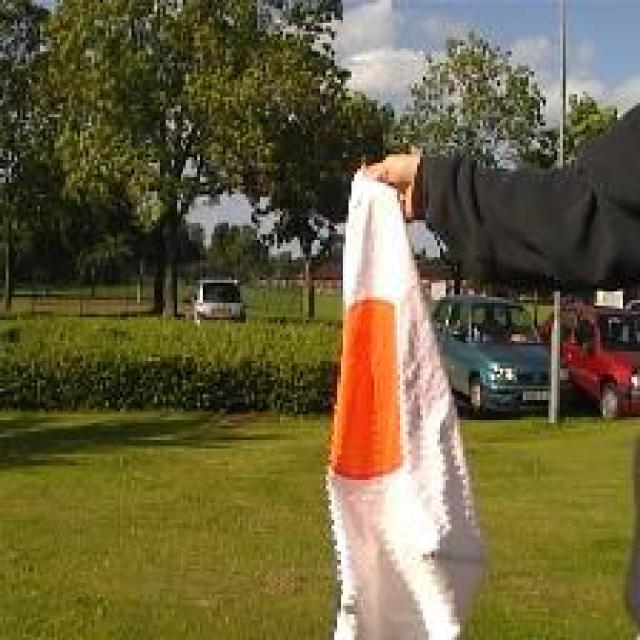other: (312, 234, 426, 512)
